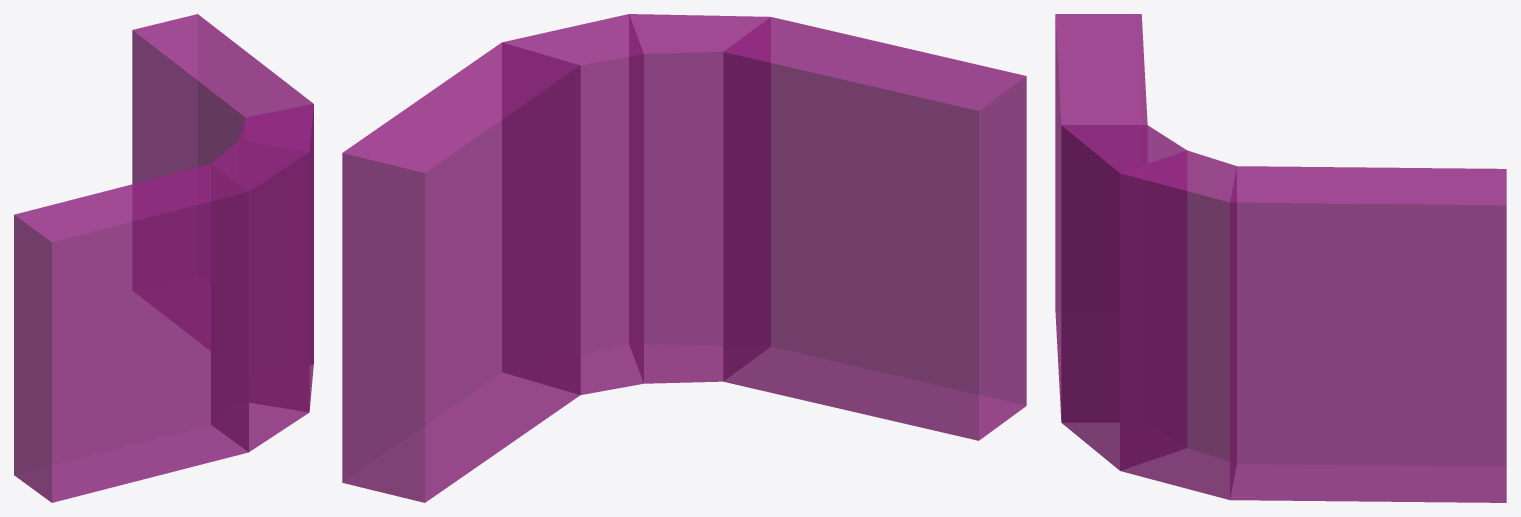
Rendered from SM_Bld_Wall_Railing_01_Curved_01_Collision.fbx.
3 renders of one model, left to right at view 1: azimuth 30°, elevation 25°; view 2: azimuth 150°, elevation 25°; view 3: azimuth 270°, elevation 25°, orthographic. The views are drawn at different scales.
Parts seen in each view (by area): view 1: SM_Bld_Wall_Railing_01_Curved_01_Collision; view 2: SM_Bld_Wall_Railing_01_Curved_01_Collision; view 3: SM_Bld_Wall_Railing_01_Curved_01_Collision.
Part boxes in pixels (left/top/right/bottom): SM_Bld_Wall_Railing_01_Curved_01_Collision: left=14, top=14, right=313, bottom=502; SM_Bld_Wall_Railing_01_Curved_01_Collision: left=342, top=14, right=1026, bottom=502; SM_Bld_Wall_Railing_01_Curved_01_Collision: left=1055, top=14, right=1506, bottom=502.
Bounding box in the file's own units: 140 × 102 × 140.
